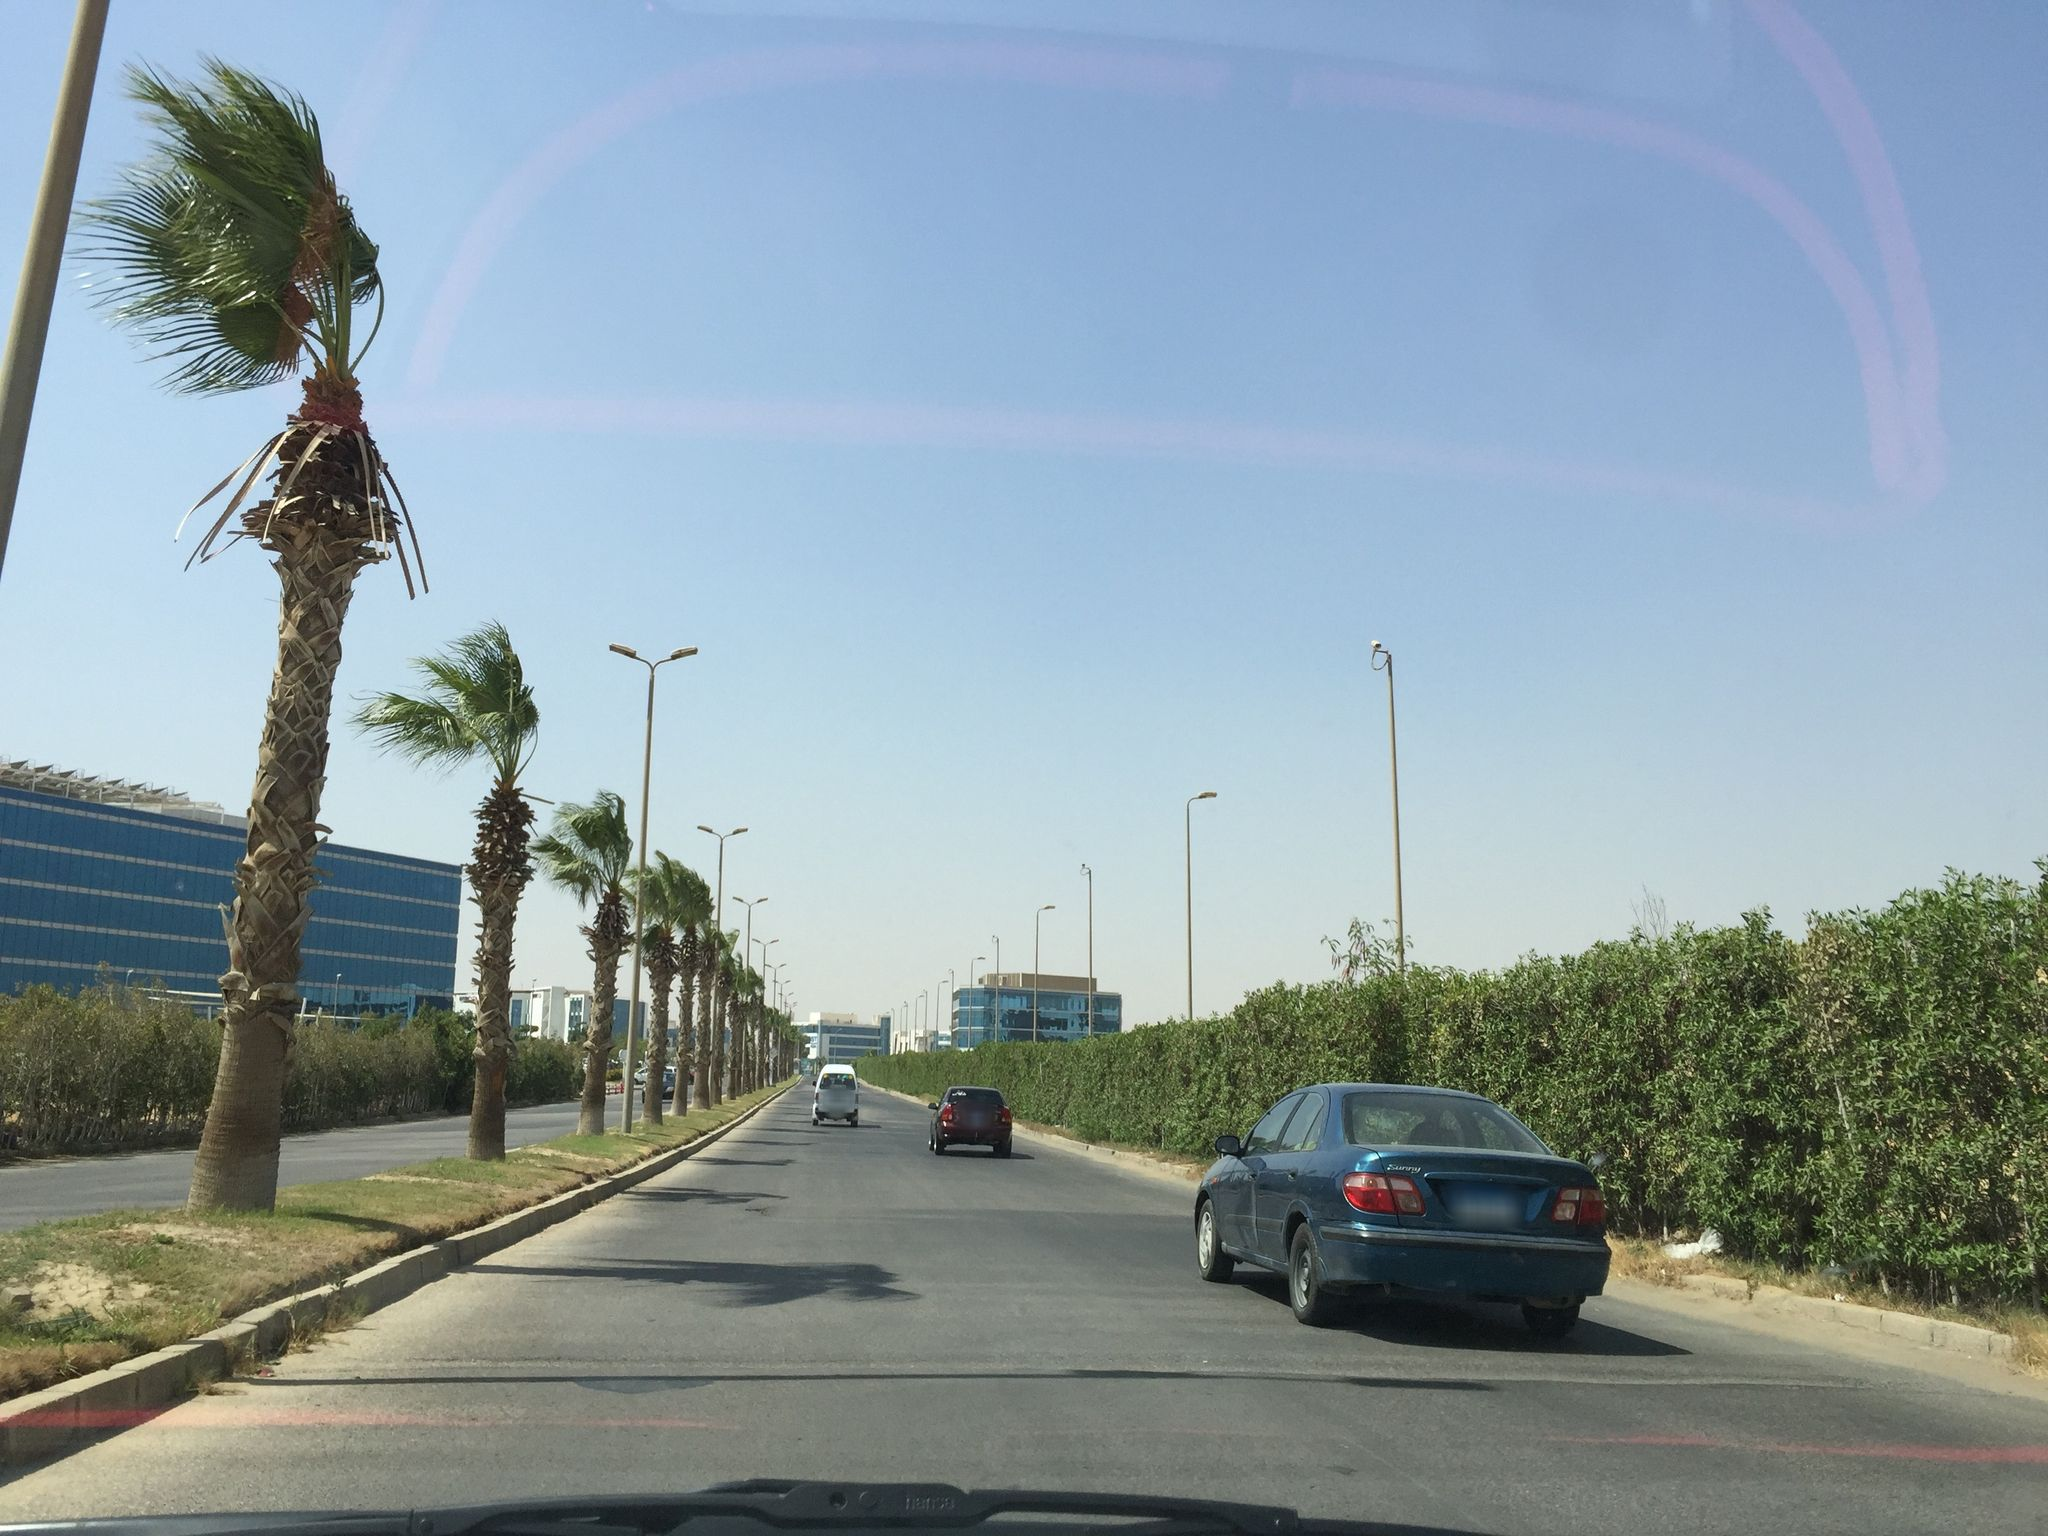car: (1193, 1079, 1614, 1333), (927, 1084, 1013, 1155), (811, 1063, 861, 1128)
